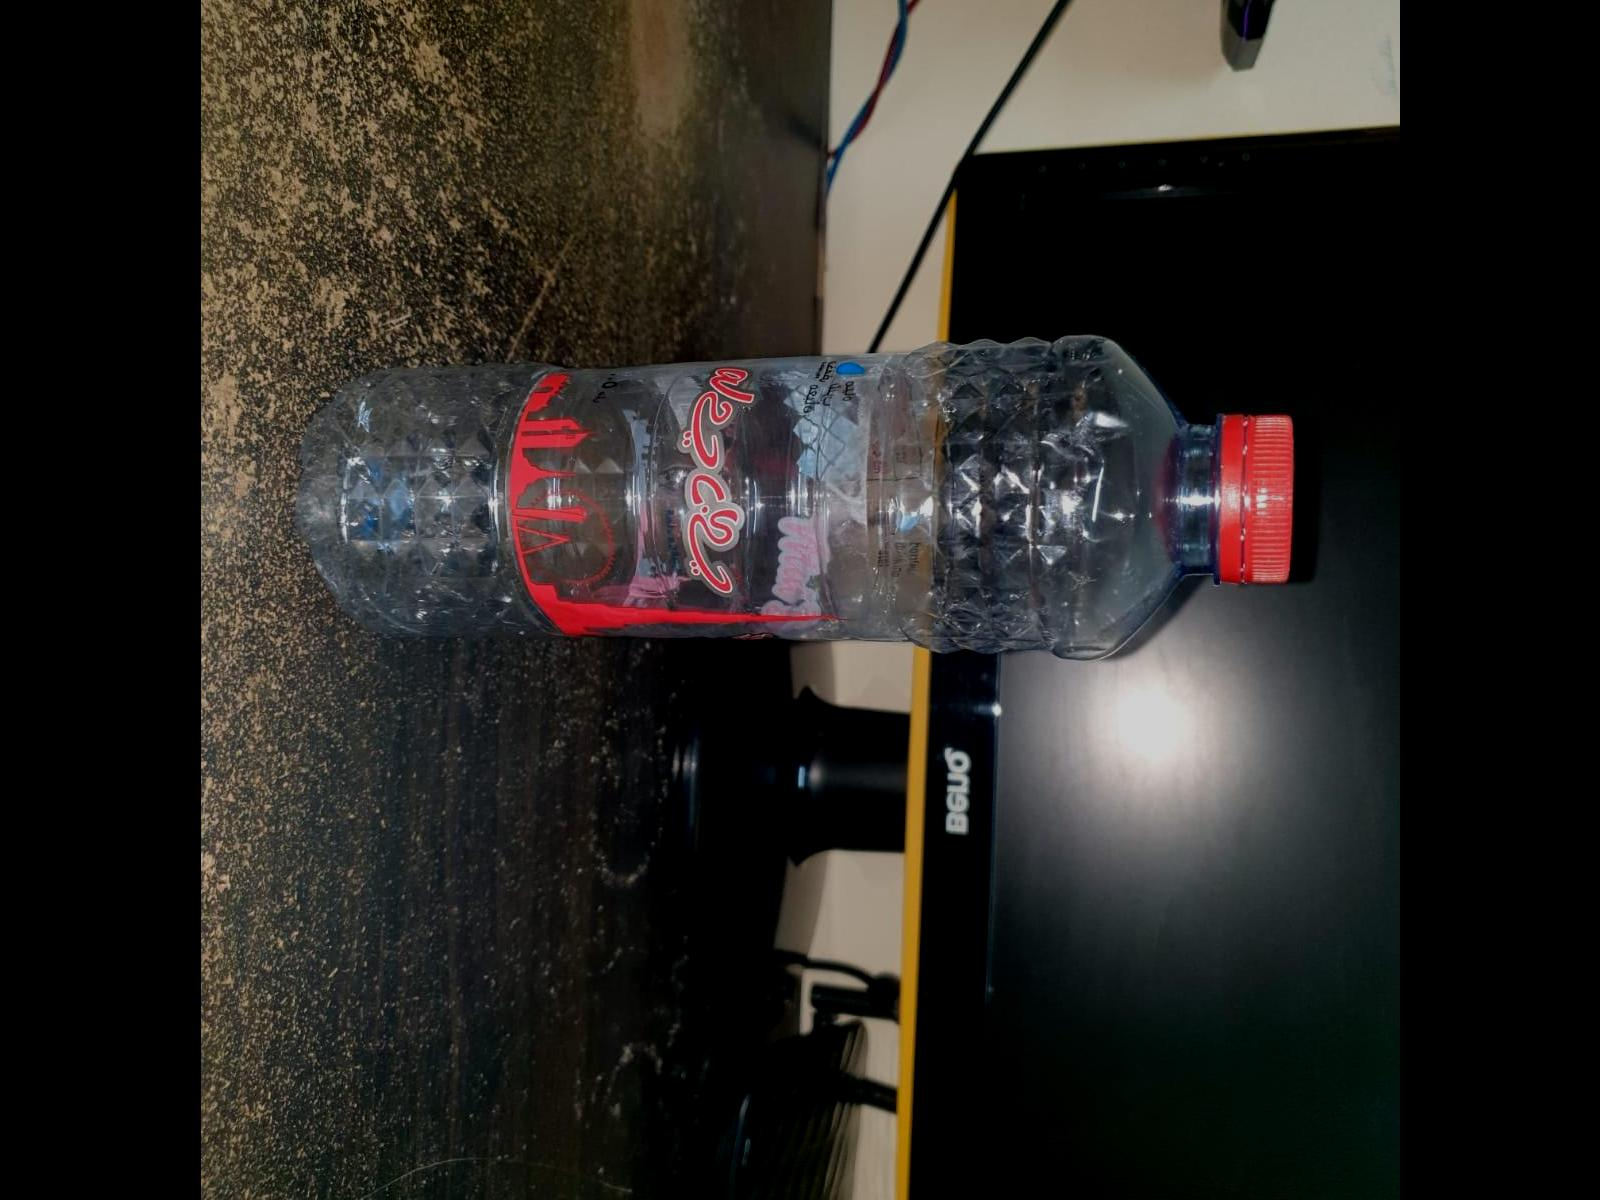bottle: (294, 314, 1329, 697)
